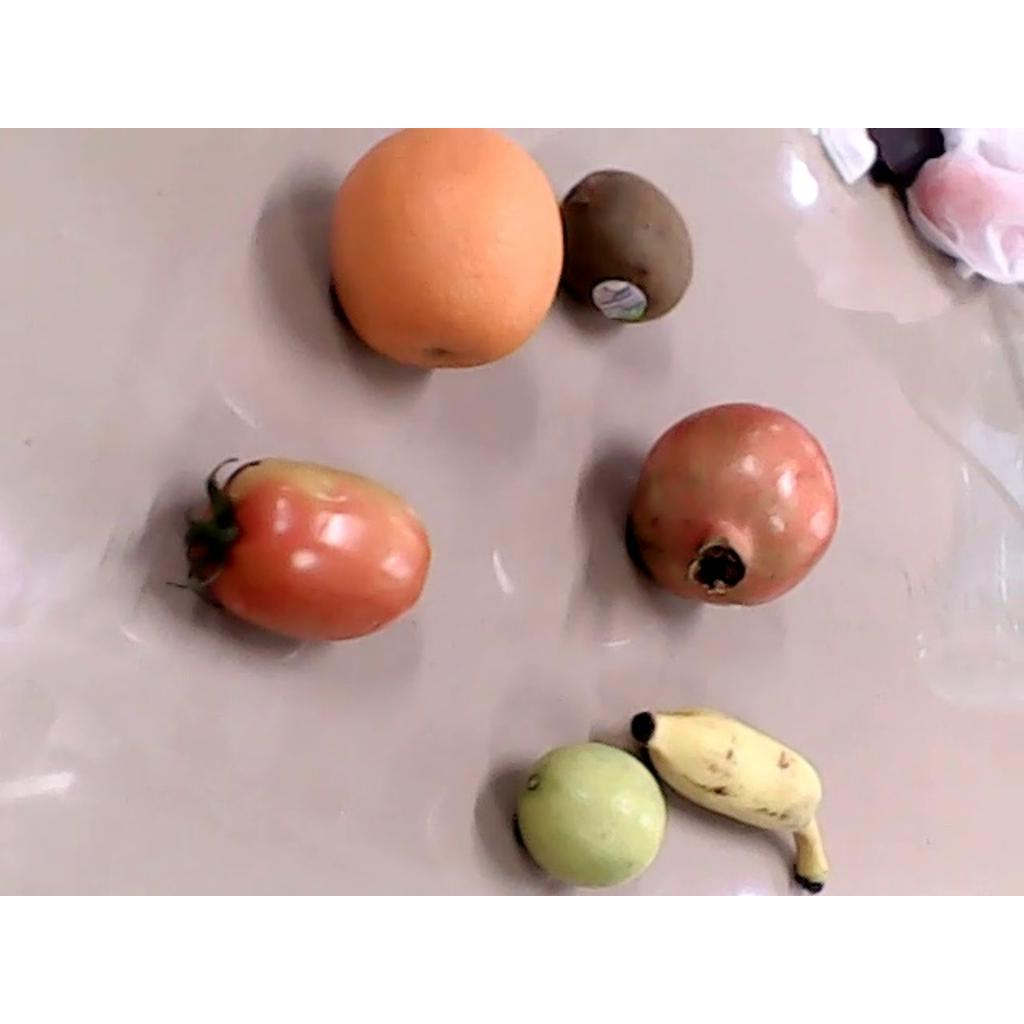kiwi: (557, 171, 693, 323)
lemon: (518, 742, 666, 885)
orange: (330, 128, 563, 369)
pomegranate: (633, 402, 840, 607)
tomato: (166, 457, 430, 643)
